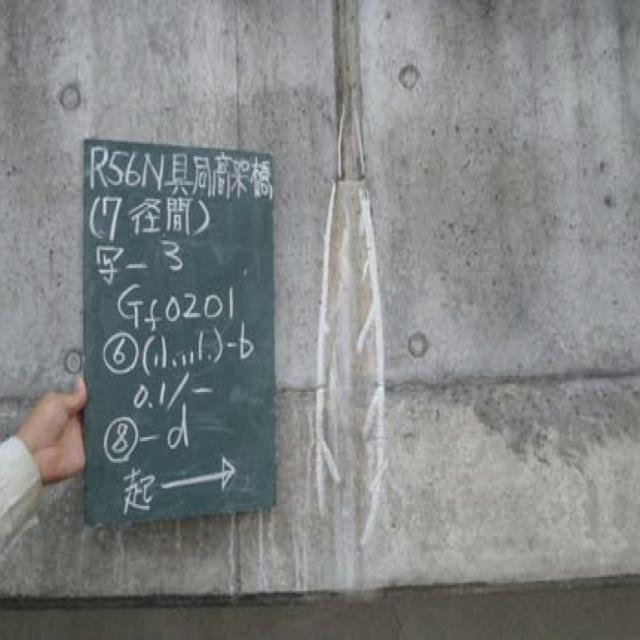freelime: (307, 189, 409, 567)
